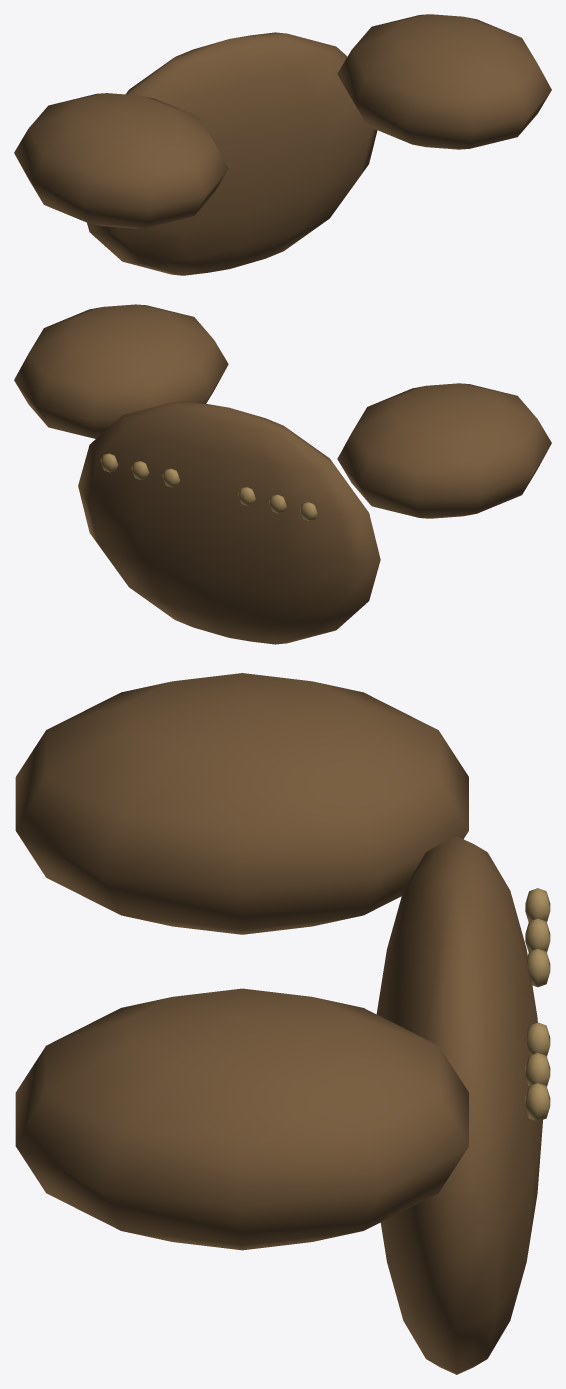
The model's file is traveler_guard.glb.
The picture shows the model from 3 angles, top to bottom: view 1: azimuth 30°, elevation 25°; view 2: azimuth 150°, elevation 25°; view 3: azimuth 270°, elevation 25°; orthographic projection. The views are drawn at different scales.
Visible parts, largest first — view 1: Breastguard, ShoulderGuard, ShoulderGuard.001; view 2: Breastguard, ShoulderGuard, ShoulderGuard.001; view 3: ShoulderGuard.001, ShoulderGuard, Breastguard.
Part boxes in pixels (x1,y1,x2,y2): Breastguard: [87, 32, 377, 275]; ShoulderGuard: [14, 93, 228, 228]; ShoulderGuard.001: [337, 14, 551, 149]; Breastguard: [78, 401, 380, 644]; ShoulderGuard: [337, 383, 551, 518]; ShoulderGuard.001: [14, 304, 228, 438]; ShoulderGuard.001: [15, 988, 468, 1250]; ShoulderGuard: [15, 673, 468, 934]; Breastguard: [376, 836, 542, 1374].
Size of the model in its own units: 0.73 by 0.33 by 0.3365.
